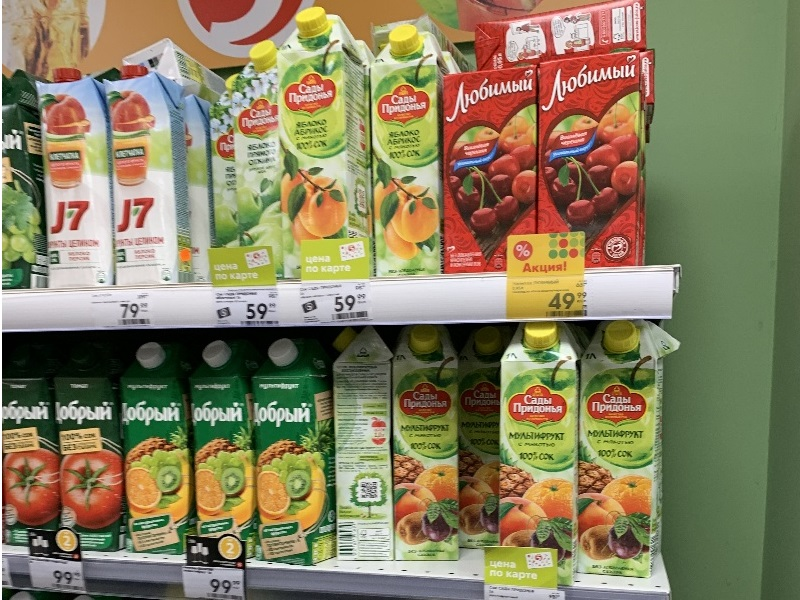juice: (533, 43, 659, 275), (576, 323, 681, 582), (271, 6, 370, 255), (242, 334, 347, 568), (363, 24, 457, 283), (493, 320, 583, 564), (433, 59, 547, 251), (30, 63, 119, 294), (382, 326, 465, 566), (101, 64, 187, 293), (111, 340, 195, 559), (182, 335, 263, 537)
